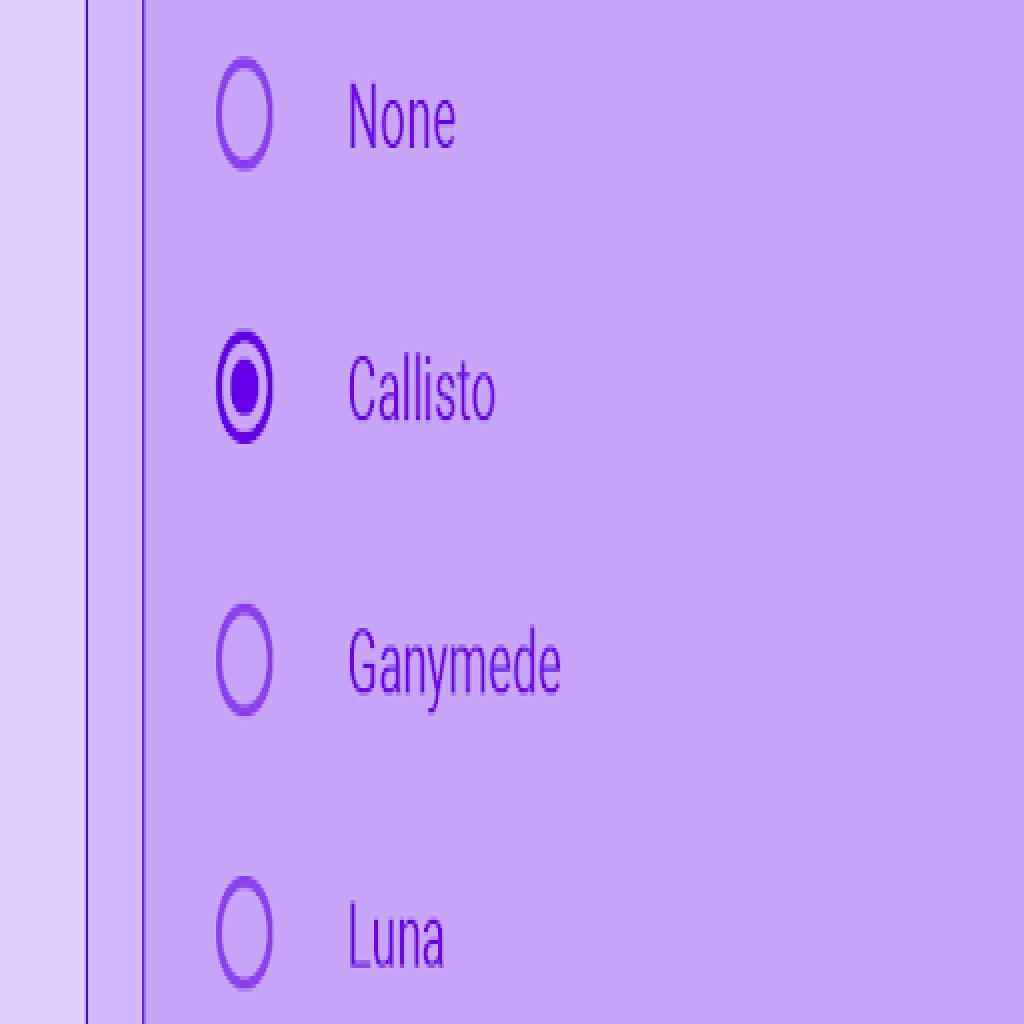label: (349, 622, 572, 707), (346, 339, 502, 432), (349, 80, 469, 161), (345, 890, 455, 971)
radio: (211, 57, 281, 174), (215, 873, 275, 996), (216, 602, 277, 718), (217, 328, 275, 444)
